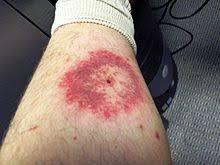Tick: (54, 40, 149, 129)
